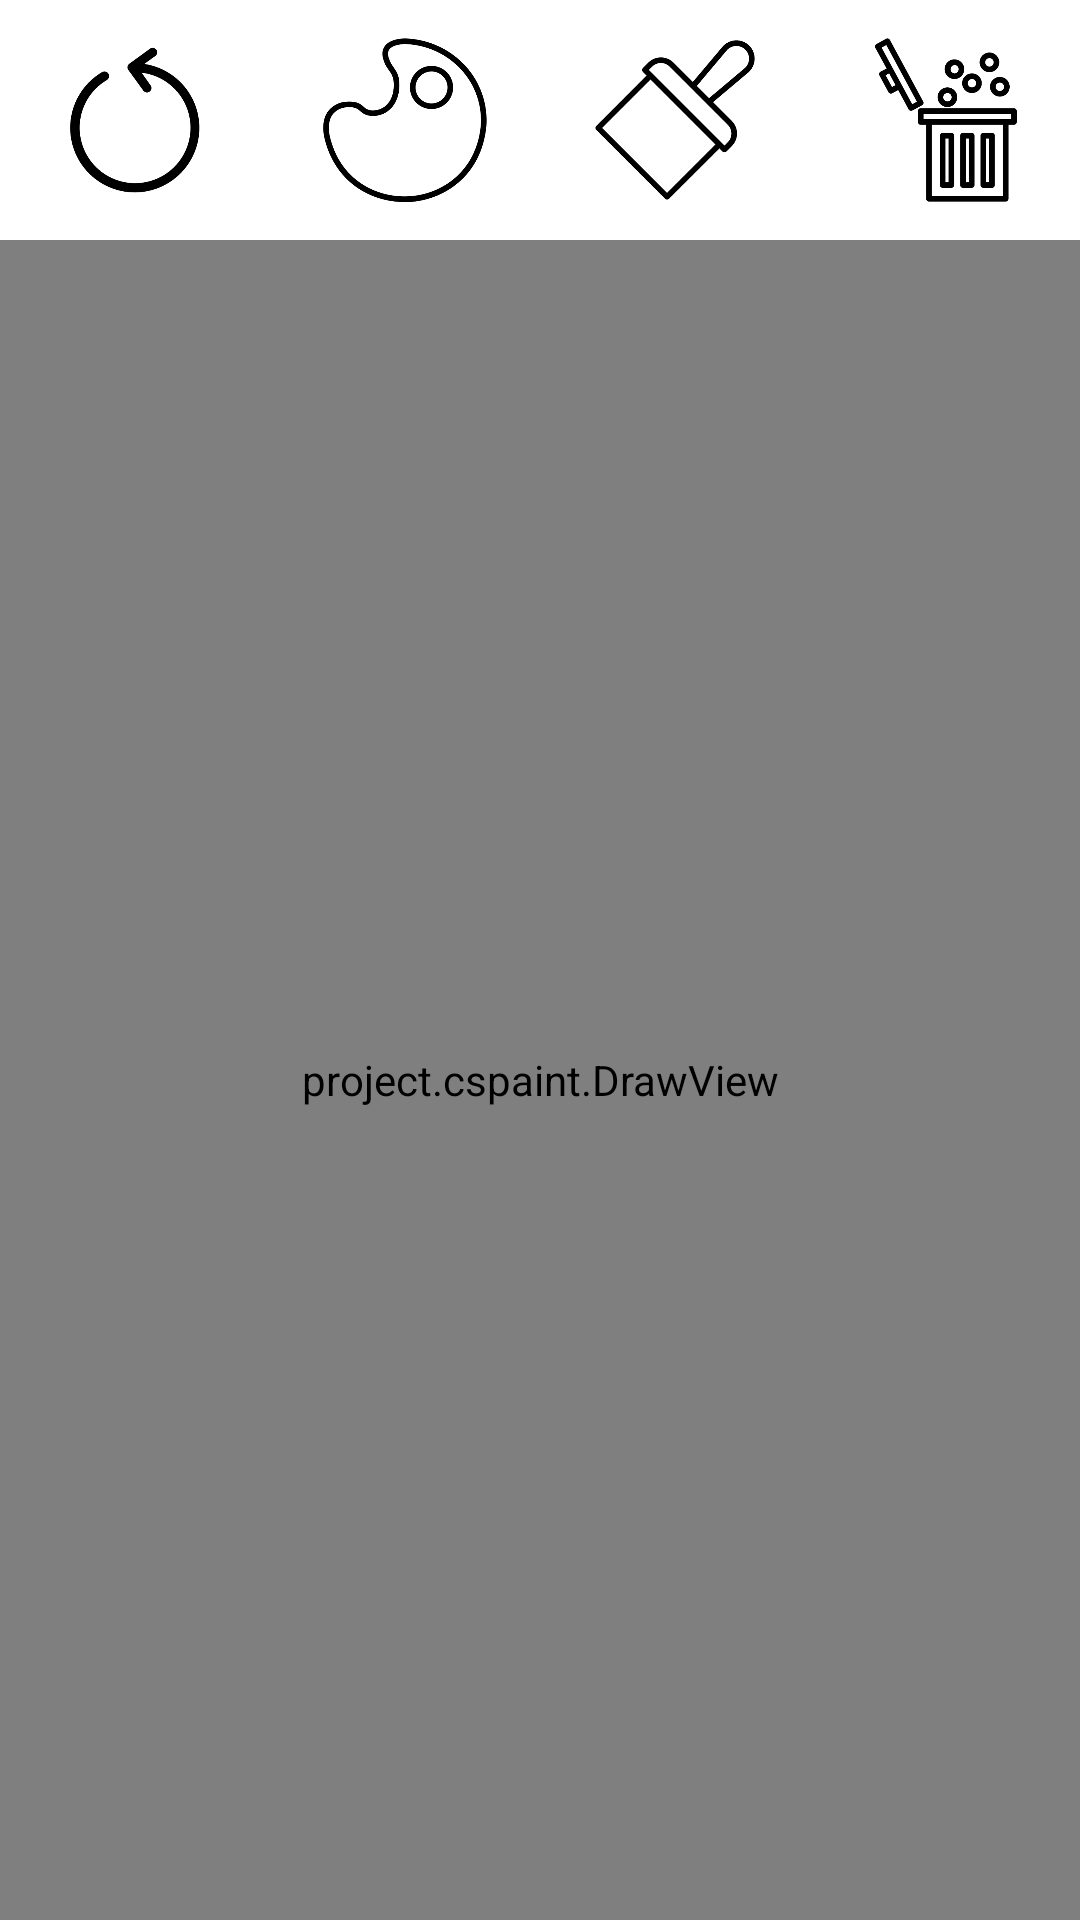

Icons on this 1080w x 1920h Android screen, each with its box as (x1,y1,x2,y2):
brush: (595,40,755,200)
painting: (323,38,487,202)
trash: (875,38,1017,202)
undo: (70,48,200,193)
